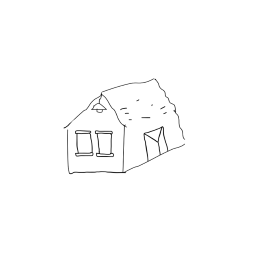door: (141, 123, 172, 163)
open_window: (73, 125, 96, 161), (93, 127, 118, 160)
single_line_roof: (51, 74, 198, 128)
small_house: (1, 1, 260, 256)
wall: (62, 90, 130, 178)
